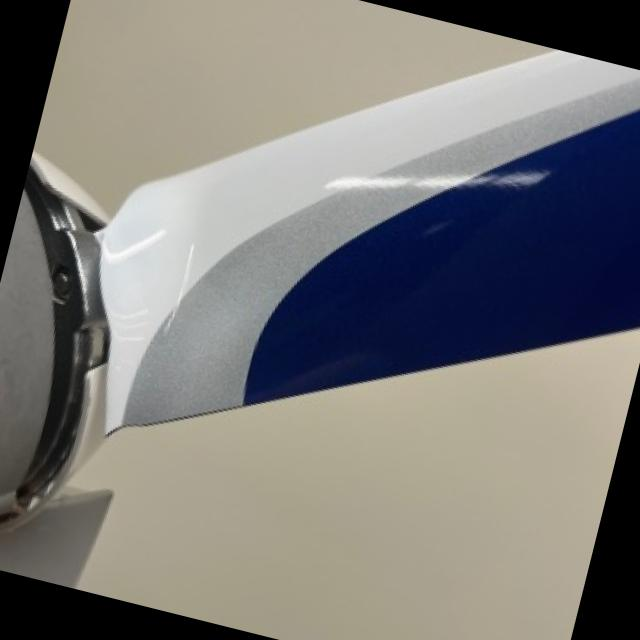healthy: (69, 328, 640, 640)
